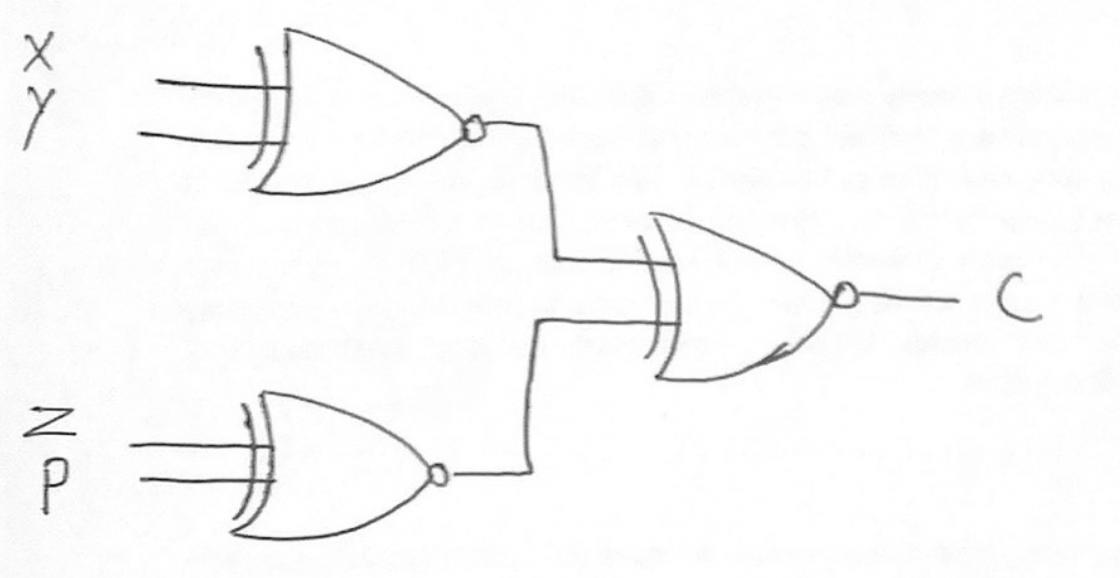XNOR: (623, 180, 869, 399), (233, 7, 487, 217), (218, 362, 474, 558)
